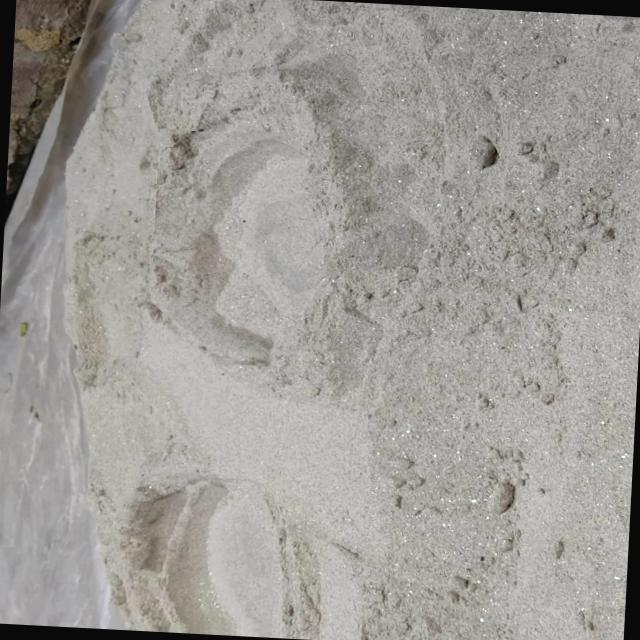C20: (153, 133, 321, 365), (123, 476, 283, 630)
